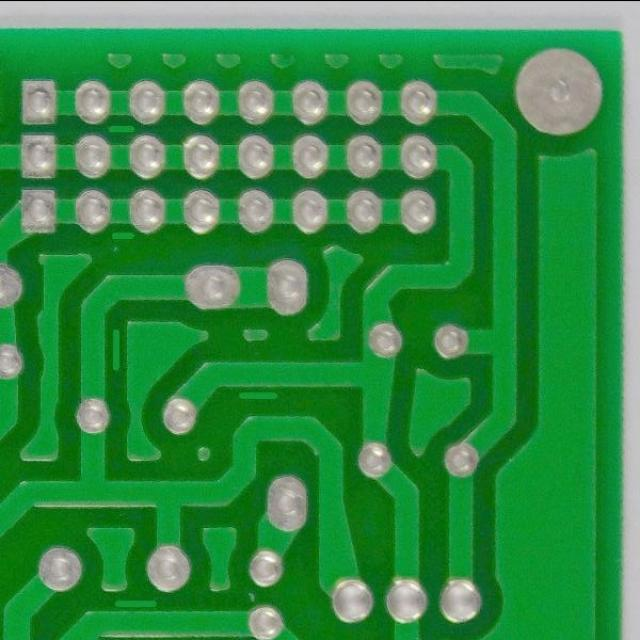spurious_copper: (99, 322, 130, 378), (110, 591, 159, 618), (231, 385, 288, 406), (102, 115, 139, 144), (105, 223, 138, 250)
